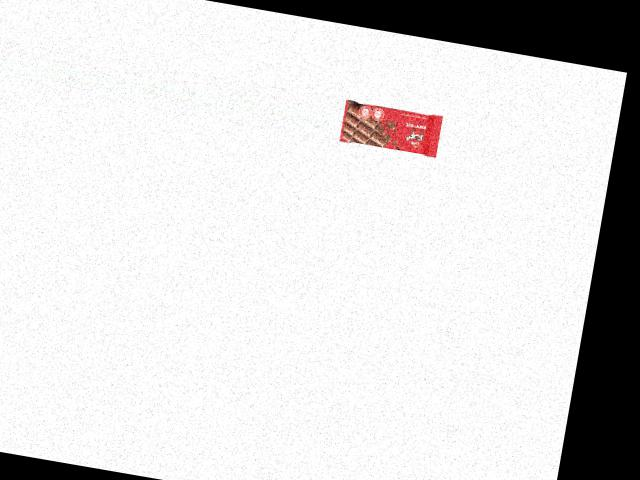chocolate: (339, 99, 445, 158)
